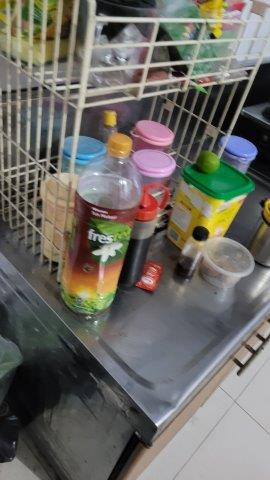botolplastik: (60, 134, 144, 320)
